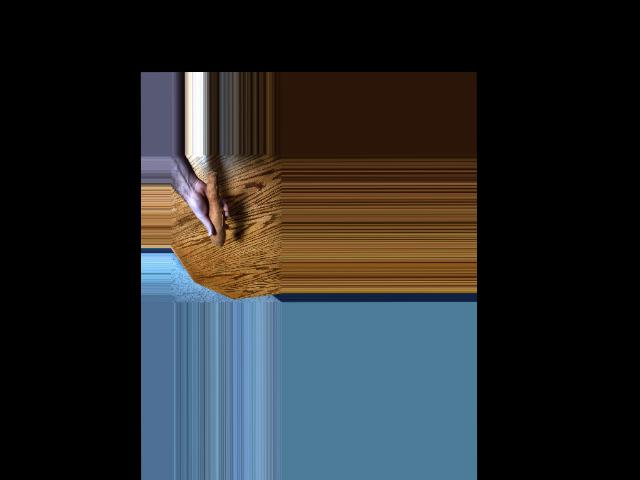sweet_potato: (202, 169, 225, 251)
